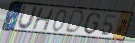0: (52, 9, 68, 33)
5: (99, 14, 118, 37)
D: (63, 9, 85, 36)
G: (82, 11, 102, 36)
H: (31, 7, 56, 32)
U: (16, 4, 40, 31)
